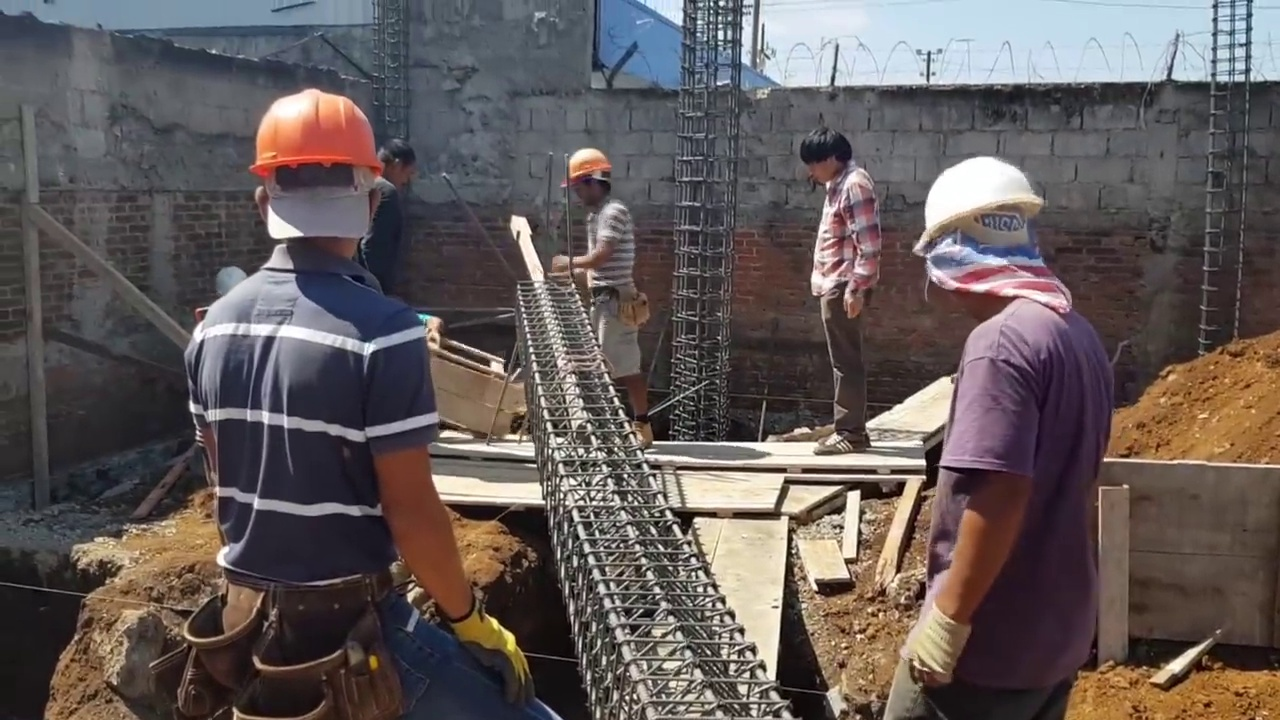helmet: (239, 86, 380, 185), (920, 153, 1050, 254), (561, 148, 614, 186), (215, 267, 248, 297)
helmet-off: (798, 127, 853, 185), (380, 137, 419, 189)
helmet-on: (236, 82, 385, 270), (921, 148, 1053, 328), (563, 148, 613, 213)
person: (167, 75, 529, 720), (901, 164, 1104, 720), (800, 116, 884, 474), (552, 143, 642, 428), (357, 132, 424, 280)
